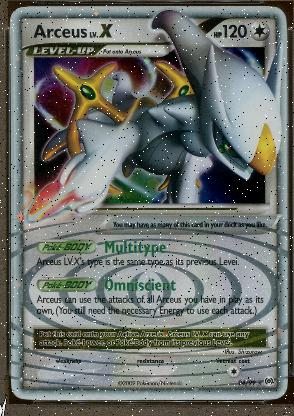Card: (7, 4, 289, 402)
Corner Wear: (275, 6, 288, 18)
